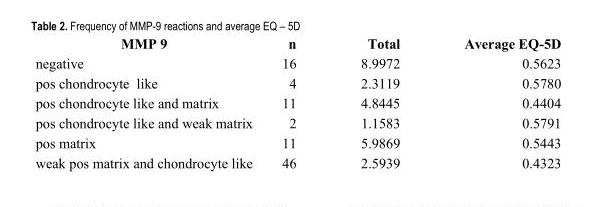table: (34, 34, 560, 170)
table column: (34, 34, 266, 170), (431, 34, 560, 170), (327, 34, 431, 170), (266, 34, 327, 170)
table column header: (34, 34, 560, 170)
table row: (34, 52, 560, 72), (34, 72, 560, 92), (34, 92, 560, 112), (34, 112, 560, 132), (34, 132, 560, 152), (34, 34, 560, 52), (34, 152, 560, 170)
table spanning cell: (34, 34, 266, 170), (431, 34, 560, 170), (327, 34, 431, 170), (266, 34, 327, 170)
